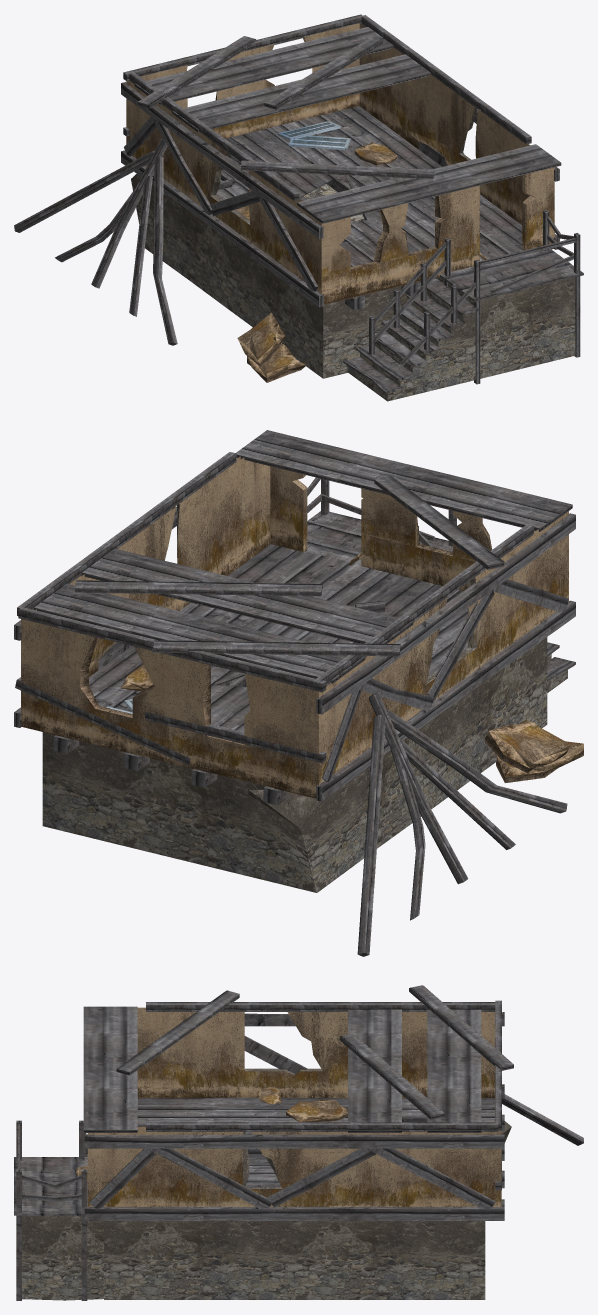
The model's file is ruins_house1.dae.
3 views of the same model, one above another, from view 1: azimuth 30°, elevation 25°; view 2: azimuth 150°, elevation 25°; view 3: azimuth 270°, elevation 25° (orthographic). The views are drawn at different scales.
Parts seen in each view (by area): view 1: wood_planks_01; view 2: wood_planks_01; view 3: wood_planks_01.
Part boxes in pixels (x1,y1,x2,y2): wood_planks_01: (14, 14, 583, 401); wood_planks_01: (14, 430, 583, 956); wood_planks_01: (14, 985, 583, 1300).
Bounding box in the file's own units: 11.7 × 6.41 × 17.38.
